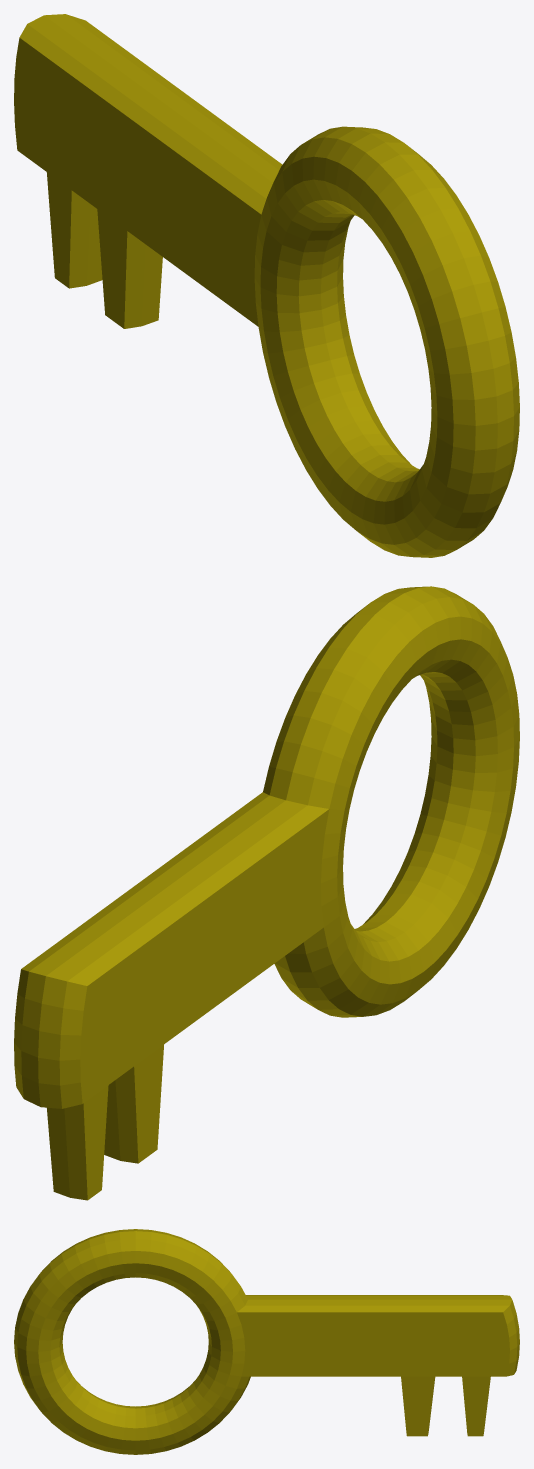
File: BridgeKey.fbx
The picture shows the model from 3 angles, top to bottom: view 1: azimuth 30°, elevation 25°; view 2: azimuth 150°, elevation 25°; view 3: azimuth 270°, elevation 25°; orthographic projection. The views are drawn at different scales.
Visible parts, largest first — view 1: BridgeKey; view 2: BridgeKey; view 3: BridgeKey.
Part boxes in pixels (<box>): BridgeKey: <box>14,14,519,557</box>; BridgeKey: <box>14,586,519,1200</box>; BridgeKey: <box>14,1229,519,1454</box>.
Bounding box in the file's own units: 29.14 × 139 × 289.
